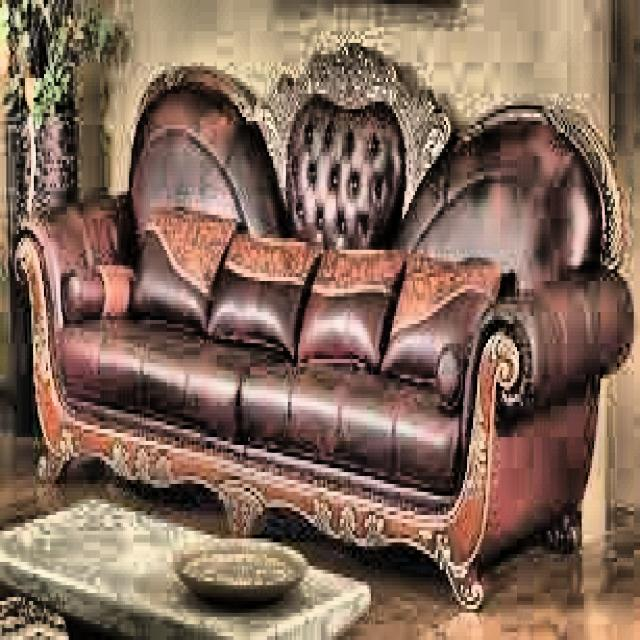sofa: (23, 74, 640, 574)
